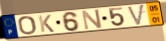5: (108, 7, 127, 27)
6: (62, 11, 81, 32)
K: (38, 14, 56, 34)
N: (81, 8, 103, 31)
O: (17, 15, 38, 36)
V: (126, 4, 146, 27)
